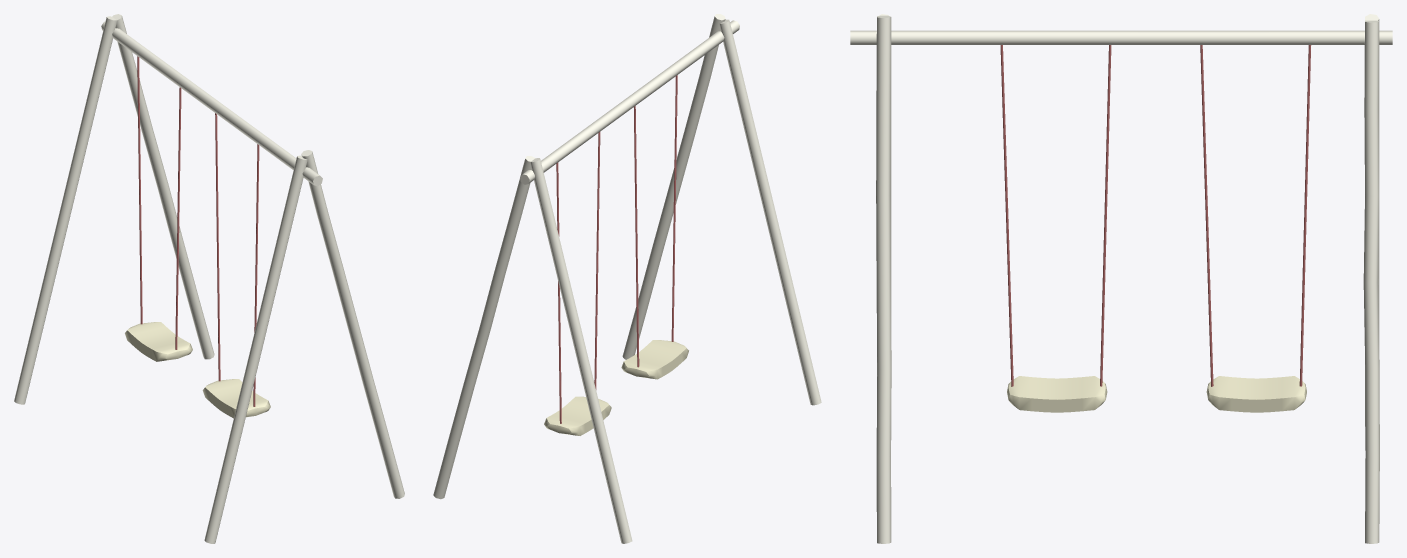
File: Baloiço.FBX
3 views of the same model, side by side, from view 1: azimuth 30°, elevation 25°; view 2: azimuth 150°, elevation 25°; view 3: azimuth 270°, elevation 25° (orthographic). The views are drawn at different scales.
Visible parts, largest first — view 1: Cylinder026; view 2: Cylinder026; view 3: Cylinder026.
Boxes of the visible parts, x1,y1,x2,y2 form: Cylinder026: (14,14,404,543); Cylinder026: (433,14,821,543); Cylinder026: (850,14,1392,543).
Size of the model in its own units: 21.71 by 38.36 by 40.01.
